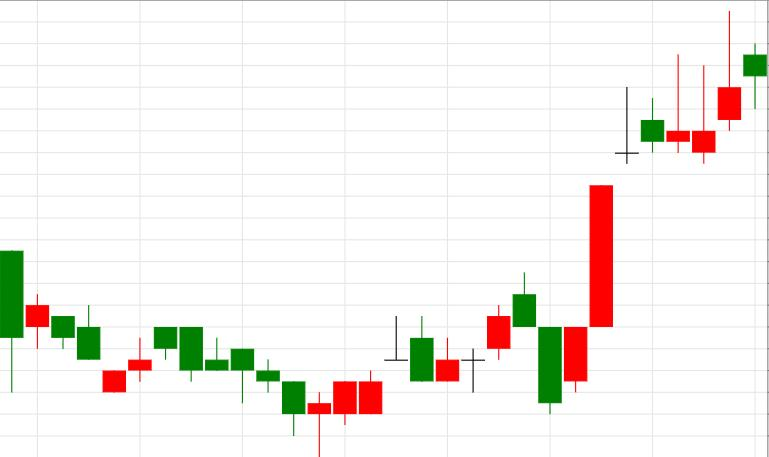shooting_star_fall: (565, 11, 741, 395)
